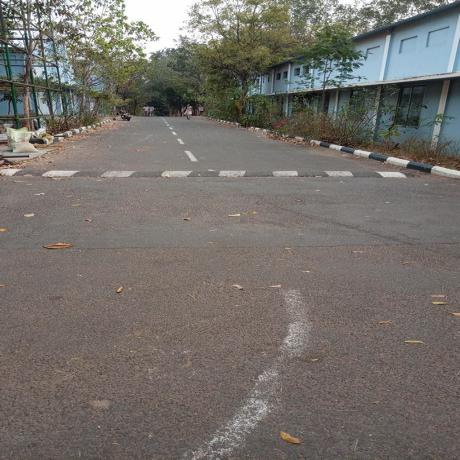Speed Bump: (1, 168, 428, 180)
